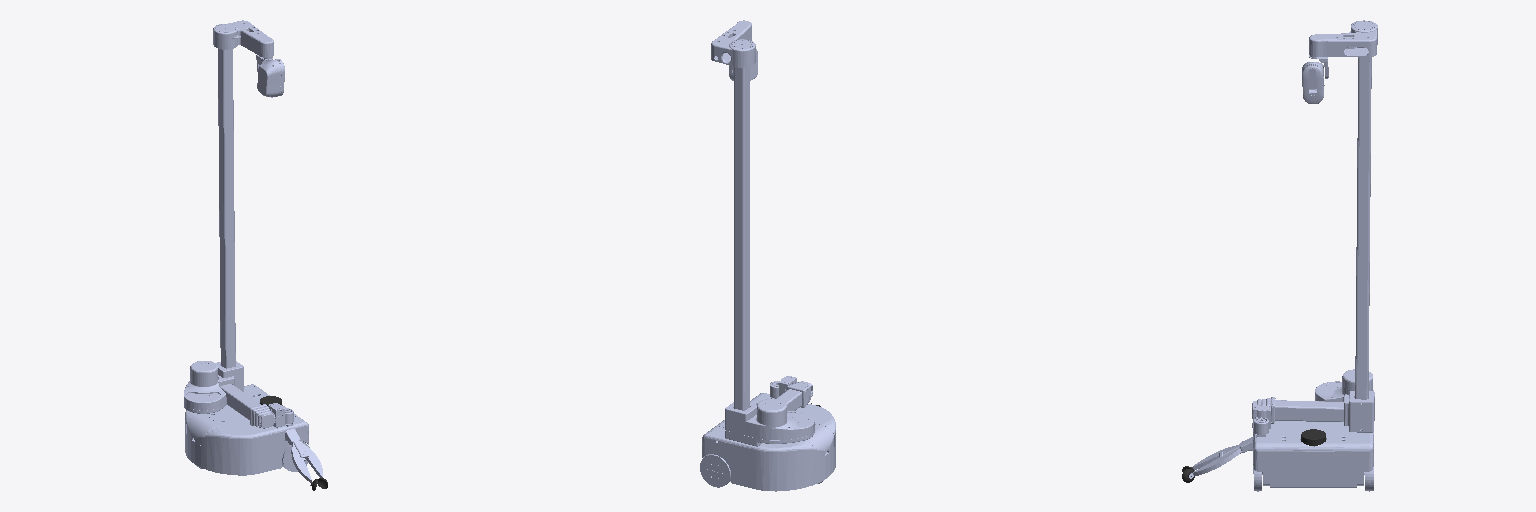
--- Render facts (derived) ---
The picture shows the robot from 3 angles, left to right: view 1: azimuth 30°, elevation 25°; view 2: azimuth 150°, elevation 25°; view 3: azimuth 270°, elevation 25°; orthographic projection.
Robot: stretch_description — 37 links, 36 joints (5 revolute, 2 continuous, 5 prismatic, 24 fixed); root link base_link; default pose: every joint at zero.
Visible links, largest first — view 1: base_link, link_mast, link_lift, link_head, link_head_tilt, link_arm_l4, link_arm_l0; view 2: base_link, link_mast, link_lift, link_head, link_left_wheel; view 3: base_link, link_mast, link_lift, link_head, link_arm_l4, link_head_tilt.
Boxes of the visible links, box(x1,y1,x2,y2) form: base_link: box(185, 384, 308, 475); link_mast: box(218, 49, 235, 368); link_lift: box(184, 361, 243, 413); link_head: box(213, 20, 273, 57); link_head_tilt: box(257, 59, 284, 97); link_arm_l4: box(220, 384, 266, 425); link_arm_l0: box(260, 403, 293, 428); base_link: box(702, 393, 835, 491); link_mast: box(734, 67, 749, 410); link_lift: box(725, 399, 814, 446); link_head: box(711, 20, 755, 67); link_left_wheel: box(700, 454, 730, 487); base_link: box(1253, 421, 1373, 487); link_mast: box(1355, 57, 1371, 399); link_lift: box(1315, 369, 1374, 432); link_head: box(1309, 20, 1377, 56); link_arm_l4: box(1271, 397, 1343, 423); link_head_tilt: box(1302, 62, 1324, 103).
Size in the robot's own frame: 0.3271 by 0.5555 by 1.42 metres.
25 mesh visuals loaded from 27 distinct referenced files (25 Collada DAE); not drawn: 2 (reference not matched to a file when rendering).

The robot description file, URDF, robot "stretch_description":
<?xml version="1.0" ?>
<robot name="stretch_description" version="1.0">
  <link name="link_gripper">
    <inertial>
      <origin rpy="0.0 0.0 0.0" xyz="-0.017022913273 0.0131410320934 -0.0371614759485"/>
      <mass value="0.101902711393"/>
      <inertia ixx="2.79241618018e-05" ixy="-1.1081924745e-05" ixz="-1.50343284037e-05" iyy="3.67945130513e-05" iyz="-4.33280448536e-06" izz="4.14524691955e-05"/>
    </inertial>
    <visual>
      <origin rpy="0.0 0.0 0.0" xyz="0.0 0.0 0.0"/>
      <geometry>
        <mesh filename="meshes/link_gripper.dae"/>
      </geometry>
      <material name="">
        <color rgba="0.792156862745 0.819607843137 0.933333333333 1.0"/>
      </material>
    </visual>
    <collision>
      <origin rpy="0.0 0.0 0.0" xyz="0.0 0.0 0.0"/>
      <geometry>
        <mesh filename="meshes/link_gripper.dae"/>
      </geometry>
    </collision>
  </link>
  <joint name="joint_gripper" type="fixed">
    <origin rpy="3.14159 0.0 -1.5708" xyz="0.0 0.0 0.0"/>
    <axis xyz="0.0 0.0 0.0"/>
    <parent link="link_wrist_yaw"/>
    <child link="link_gripper"/>
  </joint>
  <link name="link_gripper_finger_left">
    <inertial>
      <origin rpy="0.0 0.0 0.0" xyz="0.094504748351 0.0124301080924 -4.4408920985e-16"/>
      <mass value="0.0476207785199"/>
      <inertia ixx="0.0" ixy="0.0" ixz="0.0" iyy="0.0" iyz="0.0" izz="0.0"/>
    </inertial>
    <visual>
      <origin rpy="0.0 0.0 0.0" xyz="0.0 0.0 0.0"/>
      <geometry>
        <mesh filename="meshes/link_gripper_finger_left.dae" scale="0.9 1.0 1.0"/>
      </geometry>
      <material name="">
        <color rgba="0.792156862745 0.819607843137 0.933333333333 1.0"/>
      </material>
    </visual>
    <collision>
      <origin rpy="0.0 0.0 0.0" xyz="0.0 0.0 0.0"/>
      <geometry>
        <mesh filename="meshes/link_gripper_finger_left.dae" scale="0.9 1.0 1.0"/>
      </geometry>
    </collision>
  </link>
  <joint name="joint_gripper_finger_left" type="revolute">
    <origin rpy="2.1762e-15 0.5236 3.1416" xyz="-0.047231 -0.010151 -0.04679"/>
    <axis xyz="0.0 0.0 1.0"/>
    <parent link="link_gripper"/>
    <child link="link_gripper_finger_left"/>
    <limit effort="100.0" lower="-0.6" upper="0.6" velocity="1.0"/>
  </joint>
  <link name="link_gripper_fingertip_left">
    <inertial>
      <origin rpy="0.0 0.0 0.0" xyz="-3.16381381649e-08 -2.91408530639e-09 0.00812579670382"/>
      <mass value="0.00382159917456"/>
      <inertia ixx="0.0" ixy="0.0" ixz="0.0" iyy="0.0" iyz="0.0" izz="0.0"/>
    </inertial>
    <visual>
      <origin rpy="0.0 0.0 0.0" xyz="0.0 0.0 0.0"/>
      <geometry>
        <mesh filename="meshes/link_gripper_fingertip_left.dae"/>
      </geometry>
      <material name="">
        <color rgba="0.250980392157 0.250980392157 0.250980392157 1.0"/>
      </material>
    </visual>
    <collision>
      <origin rpy="0.0 0.0 0.0" xyz="0.0 0.0 0.0"/>
      <geometry>
        <mesh filename="meshes/link_gripper_fingertip_left.dae"/>
      </geometry>
    </collision>
  </link>
  <joint name="joint_gripper_fingertip_left" type="fixed">
    <origin rpy="-1.5708 -4.774e-15 -2.5545" xyz="0.171099 0.014912 0.0"/>
    <axis xyz="0.0 0.0 0.0"/>
    <parent link="link_gripper_finger_left"/>
    <child link="link_gripper_fingertip_left"/>
  </joint>
  <link name="link_gripper_finger_right">
    <inertial>
      <origin rpy="0.0 0.0 0.0" xyz="-0.094504748351 -0.0124301080924 0.0"/>
      <mass value="0.0476207785199"/>
      <inertia ixx="0.0" ixy="0.0" ixz="0.0" iyy="0.0" iyz="0.0" izz="0.0"/>
    </inertial>
    <visual>
      <origin rpy="0.0 0.0 0.0" xyz="0.0 0.0 0.0"/>
      <geometry>
        <mesh filename="meshes/link_gripper_finger_right.dae" scale="0.9 1.0 1.0"/>
      </geometry>
      <material name="">
        <color rgba="0.792156862745 0.819607843137 0.933333333333 1.0"/>
      </material>
    </visual>
    <collision>
      <origin rpy="0.0 0.0 0.0" xyz="0.0 0.0 0.0"/>
      <geometry>
        <mesh filename="meshes/link_gripper_finger_right.dae" scale="0.9 1.0 1.0"/>
      </geometry>
    </collision>
  </link>
  <joint name="joint_gripper_finger_right" type="revolute">
    <origin rpy="3.1416 -0.5236 1.2943e-15" xyz="-0.047231 0.010049 -0.04679"/>
    <axis xyz="0.0 0.0 1.0"/>
    <parent link="link_gripper"/>
    <child link="link_gripper_finger_right"/>
    <limit effort="100.0" lower="-0.6" upper="0.6" velocity="1.0"/>
  </joint>
  <link name="link_gripper_fingertip_right">
    <inertial>
      <origin rpy="0.0 0.0 0.0" xyz="2.59386303963e-08 6.70949018566e-09 0.0081257951613"/>
      <mass value="0.0038216003732"/>
      <inertia ixx="0.0" ixy="0.0" ixz="0.0" iyy="0.0" iyz="0.0" izz="0.0"/>
    </inertial>
    <visual>
      <origin rpy="0.0 0.0 0.0" xyz="0.0 0.0 0.0"/>
      <geometry>
        <mesh filename="meshes/link_gripper_fingertip_right.dae"/>
      </geometry>
      <material name="">
        <color rgba="0.250980392157 0.250980392157 0.250980392157 1.0"/>
      </material>
    </visual>
    <collision>
      <origin rpy="0.0 0.0 0.0" xyz="0.0 0.0 0.0"/>
      <geometry>
        <mesh filename="meshes/link_gripper_fingertip_right.dae"/>
      </geometry>
    </collision>
  </link>
  <joint name="joint_gripper_fingertip_right" type="fixed">
    <origin rpy="-1.5708 -2.0539e-15 0.58705" xyz="-0.171099 -0.014912 0.0"/>
    <axis xyz="0.0 0.0 0.0"/>
    <parent link="link_gripper_finger_right"/>
    <child link="link_gripper_fingertip_right"/>
  </joint>
  <link name="link_grasp_center"/>
  <joint name="joint_grasp_center" type="fixed">
    <origin rpy="0.0 0.0 3.141579" xyz="-0.205478 0.0 -0.138154"/>
    <parent link="link_gripper"/>
    <child link="link_grasp_center"/>
  </joint>
  <link name="base_link">
    <inertial>
      <origin rpy="0.0 0.0 0.0" xyz="-0.109461304328 -0.000741018909048 0.091491526943"/>
      <mass value="1.07237826598"/>
      <inertia ixx="0.0031058090771" ixy="1.51828481911e-06" ixz="0.000416904667324" iyy="0.00433798719992" iyz="1.33487716258e-05" izz="0.00372047274674"/>
    </inertial>
    <visual>
      <origin rpy="0.0 0.0 0.0" xyz="0.0 0.0 0.0"/>
      <geometry>
        <mesh filename="meshes/base_link.dae"/>
      </geometry>
      <material name="">
        <color rgba="0.792156862745 0.819607843137 0.933333333333 1.0"/>
      </material>
    </visual>
    <collision>
      <origin rpy="0.0 0.0 0.0" xyz="0.0 0.0 0.0"/>
      <geometry>
        <mesh filename="meshes/base_link.dae"/>
      </geometry>
    </collision>
  </link>
  <link name="link_right_wheel">
    <inertial>
      <origin rpy="0.0 0.0 0.0" xyz="1.25554620867e-07 3.54748938447e-07 0.0239581106165"/>
      <mass value="0.00356714564938"/>
      <inertia ixx="0.0" ixy="0.0" ixz="0.0" iyy="0.0" iyz="0.0" izz="0.0"/>
    </inertial>
    <visual>
      <origin rpy="0.0 0.0 0.0" xyz="0.0 0.0 0.0"/>
      <geometry>
        <mesh filename="meshes/link_right_wheel.dae"/>
      </geometry>
      <material name="">
        <color rgba="0.792156862745 0.819607843137 0.933333333333 1.0"/>
      </material>
    </visual>
    <collision>
      <origin rpy="0.0 0.0 0.0" xyz="0.0 0.0 0.0"/>
      <geometry>
        <mesh filename="meshes/link_right_wheel.dae"/>
      </geometry>
    </collision>
  </link>
  <joint name="joint_right_wheel" type="continuous">
    <origin rpy="-1.57079632679 -1.11022302463e-16 7.2858385991e-17" xyz="-0.003 -0.15765 0.0508"/>
    <axis xyz="0.0 0.0 1.0"/>
    <parent link="base_link"/>
    <child link="link_right_wheel"/>
  </joint>
  <link name="link_left_wheel">
    <inertial>
      <origin rpy="0.0 0.0 0.0" xyz="1.25554620922e-07 -3.54748938503e-07 -0.0239581106165"/>
      <mass value="0.00356714564938"/>
      <inertia ixx="0.0" ixy="0.0" ixz="0.0" iyy="0.0" iyz="0.0" izz="0.0"/>
    </inertial>
    <visual>
      <origin rpy="0.0 0.0 0.0" xyz="0.0 0.0 0.0"/>
      <geometry>
        <mesh filename="meshes/link_left_wheel.dae"/>
      </geometry>
      <material name="">
        <color rgba="0.792156862745 0.819607843137 0.933333333333 1.0"/>
      </material>
    </visual>
    <collision>
      <origin rpy="0.0 0.0 0.0" xyz="0.0 0.0 0.0"/>
      <geometry>
        <mesh filename="meshes/link_left_wheel.dae"/>
      </geometry>
    </collision>
  </link>
  <joint name="joint_left_wheel" type="continuous">
    <origin rpy="-1.57079632679 3.16227047921e-31 7.88745438254e-16" xyz="-0.00300000000002 0.15765 0.0508"/>
    <axis xyz="0.0 0.0 1.0"/>
    <parent link="base_link"/>
    <child link="link_left_wheel"/>
  </joint>
  <link name="link_mast">
    <inertial>
      <origin rpy="0.0 0.0 0.0" xyz="0.00755818572976 0.773971284177 0.0064731308662"/>
      <mass value="0.749143203376"/>
      <inertia ixx="0.0709854511955" ixy="-0.00433428742758" ixz="-0.000186110788698" iyy="0.000437922053343" iyz="-0.00288788257713" izz="0.0711048085017"/>
    </inertial>
    <visual>
      <origin rpy="0.0 0.0 0.0" xyz="0.0 0.0 0.0"/>
      <geometry>
        <mesh filename="meshes/link_mast.dae"/>
      </geometry>
      <material name="">
        <color rgba="0.792156862745 0.819607843137 0.933333333333 1.0"/>
      </material>
    </visual>
    <collision>
      <origin rpy="0.0 0.0 0.0" xyz="0.0 0.0 0.0"/>
      <geometry>
        <mesh filename="meshes/link_mast.dae"/>
      </geometry>
    </collision>
  </link>
  <joint name="joint_mast" type="fixed">
    <origin rpy="1.5624855157520778 -0.004672480556753289 -0.006463004369552573" xyz="-0.07277058991446328 0.1352903538167361 0.031977409320794355"/>
    <axis xyz="0.0 0.0 0.0"/>
    <parent link="base_link"/>
    <child link="link_mast"/>
  </joint>
  <link name="link_lift">
    <inertial>
      <origin rpy="0.0 0.0 0.0" xyz="-0.0547636346253 0.0380939689802 0.00933159404448"/>
      <mass value="0.444820831236"/>
      <inertia ixx="0.000567192946271" ixy="-0.000246075347895" ixz="-0.000128108442261" iyy="0.00127108364479" iyz="7.6191685507e-06" izz="0.00137296635099"/>
    </inertial>
    <visual>
      <origin rpy="0.0 0.0 0.0" xyz="0.0 0.0 0.0"/>
      <geometry>
        <mesh filename="meshes/link_lift.dae"/>
      </geometry>
      <material name="">
        <color rgba="0.792156862745 0.819607843137 0.933333333333 1.0"/>
      </material>
    </visual>
    <collision>
      <origin rpy="0.0 0.0 0.0" xyz="0.0 0.0 0.0"/>
      <geometry>
        <mesh filename="meshes/link_lift.dae"/>
      </geometry>
    </collision>
  </link>
  <joint name="joint_lift" type="prismatic">
    <origin rpy="-1.5707963268 1.56154313753 -6.29420043665e-13" xyz="-0.0369217062323 0.1654712 -0.000341653286794"/>
    <axis xyz="0.0 1.0 0.0"/>
    <parent link="link_mast"/>
    <child link="link_lift"/>
    <limit effort="100.0" lower="0.0" upper="1.1" velocity="1.0"/>
  </joint>
  <link name="link_arm_l4">
    <inertial>
      <origin rpy="0.0 0.0 0.0" xyz="-1.61247276464e-06 1.54715589201e-06 -0.095325270604"/>
      <mass value="0.067652545579"/>
      <inertia ixx="0.000122002023067" ixy="7.2959335623e-13" ixz="9.63170353371e-09" iyy="0.000122002023127" iyz="-9.24154949889e-09" izz="1.4604343981e-12"/>
    </inertial>
    <visual>
      <origin rpy="0.0 0.0 0.0" xyz="0.0 0.0 0.0"/>
      <geometry>
        <mesh filename="meshes/link_arm_l4.dae"/>
      </geometry>
      <material name="">
        <color rgba="0.792156862745 0.819607843137 0.933333333333 1.0"/>
      </material>
    </visual>
    <collision>
      <origin rpy="0.0 0.0 0.0" xyz="0.0 0.0 0.0"/>
      <geometry>
        <mesh filename="meshes/link_arm_l4.dae"/>
      </geometry>
    </collision>
  </link>
  <joint name="joint_arm_l4" type="fixed">
    <origin rpy="1.554658509218388 0.004597868167079522 -1.5648093090767023" xyz="-0.2590365485890325 -0.004056457899196247 -0.00045922665220278703"/>
    <axis xyz="0.0 0.0 0.0"/>
    <parent link="link_lift"/>
    <child link="link_arm_l4"/>
  </joint>
  <link name="link_arm_l3">
    <inertial>
      <origin rpy="0.0 0.0 0.0" xyz="-3.34873468621e-07 4.74113363069e-07 -0.0974069598289"/>
      <mass value="0.0626921047058"/>
      <inertia ixx="0.000115246639451" ixy="4.42139679831e-14" ixz="1.8971127991e-09" iyy="0.00011524663942" iyz="-2.68592949588e-09" izz="9.38270676408e-14"/>
    </inertial>
    <visual>
      <origin rpy="0.0 0.0 0.0" xyz="0.0 0.0 0.0"/>
      <geometry>
        <mesh filename="meshes/link_arm_l3.dae"/>
      </geometry>
      <material name="">
        <color rgba="0.792156862745 0.819607843137 0.933333333333 1.0"/>
      </material>
    </visual>
    <collision>
      <origin rpy="0.0 0.0 0.0" xyz="0.0 0.0 0.0"/>
      <geometry>
        <mesh filename="meshes/link_arm_l3.dae"/>
      </geometry>
    </collision>
  </link>
  <joint name="joint_arm_l3" type="prismatic">
    <origin rpy="3.5742e-16 3.2123e-16 -2.4565e-16" xyz="0.0 0.0 0.013"/>
    <axis xyz="0.0 0.0 1.0"/>
    <parent link="link_arm_l4"/>
    <child link="link_arm_l3"/>
    <limit effort="100.0" lower="0.0" upper="0.13" velocity="1.0"/>
  </joint>
  <link name="link_arm_l2">
    <inertial>
      <origin rpy="0.0 0.0 0.0" xyz="-3.31043560509e-07 3.13422303999e-07 -0.0972558835419"/>
      <mass value="0.0569074368576"/>
      <inertia ixx="0.000105206697152" ixy="2.59896259031e-14" ixz="1.69941454518e-09" iyy="0.000105206697155" iyz="-1.60895568924e-09" izz="5.20570301686e-14"/>
    </inertial>
    <visual>
      <origin rpy="0.0 0.0 0.0" xyz="0.0 0.0 0.0"/>
      <geometry>
        <mesh filename="meshes/link_arm_l2.dae"/>
      </geometry>
      <material name="">
        <color rgba="0.792156862745 0.819607843137 0.933333333333 1.0"/>
      </material>
    </visual>
    <collision>
      <origin rpy="0.0 0.0 0.0" xyz="0.0 0.0 0.0"/>
      <geometry>
        <mesh filename="meshes/link_arm_l2.dae"/>
      </geometry>
    </collision>
  </link>
  <joint name="joint_arm_l2" type="prismatic">
    <origin rpy="2.91385731014e-16 4.44300759505e-17 3.25691080516e-16" xyz="0.0 0.0 0.013"/>
    <axis xyz="0.0 0.0 1.0"/>
    <parent link="link_arm_l3"/>
    <child link="link_arm_l2"/>
    <limit effort="100.0" lower="0.0" upper="0.13" velocity="1.0"/>
  </joint>
  <link name="link_arm_l1">
    <inertial>
      <origin rpy="0.0 0.0 0.0" xyz="-3.36876635421e-07 3.05876091067e-07 -0.0969117032233"/>
      <mass value="0.0511763619538"/>
      <inertia ixx="9.58490021275e-05" ixy="2.27446667584e-14" ixz="1.54951672296e-09" iyy="9.58490021319e-05" iyz="-1.40692486873e-09" izz="4.57014633924e-14"/>
    </inertial>
    <visual>
      <origin rpy="0.0 0.0 0.0" xyz="0.0 0.0 0.0"/>
      <geometry>
        <mesh filename="meshes/link_arm_l1.dae"/>
      </geometry>
      <material name="">
        <color rgba="0.792156862745 0.819607843137 0.933333333333 1.0"/>
      </material>
    </visual>
    <collision>
      <origin rpy="0.0 0.0 0.0" xyz="0.0 0.0 0.0"/>
      <geometry>
        <mesh filename="meshes/link_arm_l1.dae"/>
      </geometry>
    </collision>
  </link>
  <joint name="joint_arm_l1" type="prismatic">
    <origin rpy="7.41596560408e-17 1.33876788297e-16 -2.44545873596e-16" xyz="0.0 0.0 0.013"/>
    <axis xyz="0.0 0.0 1.0"/>
    <parent link="link_arm_l2"/>
    <child link="link_arm_l1"/>
    <limit effort="100.0" lower="0.0" upper="0.13" velocity="1.0"/>
  </joint>
  <link name="link_arm_l0">
    <inertial>
      <origin rpy="0.0 0.0 0.0" xyz="0.0230715049668 -0.00195115833663 -0.036064634716"/>
      <mass value="0.101241250325"/>
      <inertia ixx="0.00022715699901" ixy="8.90680620109e-06" ixz="-7.91132210986e-05" iyy="0.000300732790537" iyz="7.21771824541e-06" izz="9.35784422622e-05"/>
    </inertial>
    <visual>
      <origin rpy="0.0 0.0 0.0" xyz="0.0 0.0 0.0"/>
      <geometry>
        <mesh filename="meshes/link_arm_l0.dae"/>
      </geometry>
      <material name="">
        <color rgba="0.792156862745 0.819607843137 0.933333333333 1.0"/>
      </material>
    </visual>
    <collision>
      <origin rpy="0.0 0.0 0.0" xyz="0.0 0.0 0.0"/>
      <geometry>
        <mesh filename="meshes/link_arm_l0.dae"/>
      </geometry>
    </collision>
  </link>
  <joint name="joint_arm_l0" type="prismatic">
    <origin rpy="-3.05317390622e-16 -4.23236224077e-16 -2.68425135229e-17" xyz="0.0 0.0 -0.01375"/>
    <axis xyz="0.0 0.0 1.0"/>
    <parent link="link_arm_l1"/>
    <child link="link_arm_l0"/>
    <limit effort="100.0" lower="0.0" upper="0.13" velocity="1.0"/>
  </joint>
  <link name="link_wrist_yaw">
    <inertial>
      <origin rpy="0.0 0.0 0.0" xyz="-8.02795716751e-06 1.93811447768e-05 0.0189467005959"/>
      <mass value="0.0405398981326"/>
      <inertia ixx="2.20062857967e-09" ixy="1.15494401227e-13" ixz="1.02598056874e-11" iyy="2.20039759185e-09" iyz="-2.47692875363e-11" izz="3.26666802417e-13"/>
    </inertial>
    <visual>
      <origin rpy="0.0 0.0 0.0" xyz="0.0 0.0 0.0"/>
      <geometry>
        <mesh filename="meshes/link_wrist_yaw.dae"/>
      </geometry>
      <material name="">
        <color rgba="0.792156862745 0.819607843137 0.933333333333 1.0"/>
      </material>
    </visual>
    <collision>
      <origin rpy="0.0 0.0 0.0" xyz="0.0 0.0 0.0"/>
      <geometry>
        <mesh filename="meshes/link_wrist_yaw.dae"/>
      </geometry>
    </collision>
  </link>
  <joint name="joint_wrist_yaw" type="revolute">
    <origin rpy="1.5708 4.2595e-14 2.6415e-15" xyz="0.083 -0.03075 0.0"/>
    <axis xyz="0.0 0.0 -1.0"/>
    <parent link="link_arm_l0"/>
    <child link="link_wrist_yaw"/>
    <limit effort="100.0" lower="-1.75" upper="4.0" velocity="1.0"/>
  </joint>
  <link name="link_head">
    <inertial>
      <origin rpy="0.0 0.0 0.0" xyz="0.0372933550589 0.0455094329856 0.0281136801213"/>
      <mass value="0.129454717596"/>
      <inertia ixx="2.93405962311e-05" ixy="-7.89638931854e-07" ixz="-4.74678128516e-06" iyy="2.68283736177e-05" iyz="1.80251508622e-06" izz="1.46172914237e-05"/>
    </inertial>
    <visual>
      <origin rpy="0.0 0.0 0.0" xyz="0.0 0.0 0.0"/>
      <geometry>
        <mesh filename="meshes/link_head.dae"/>
      </geometry>
      <material name="">
        <color rgba="0.792156862745 0.819607843137 0.933333333333 1.0"/>
      </material>
    </visual>
    <collision>
      <origin rpy="0.0 0.0 0.0" xyz="0.0 0.0 0.0"/>
      <geometry>
        <mesh filename="meshes/link_head.dae"/>
      </geometry>
    </collision>
  </link>
  <joint name="joint_head" type="fixed">
    <origin rpy="1.5708 -1.5615 3.1416" xyz="0.0 1.33 0.0"/>
    <axis xyz="0.0 0.0 0.0"/>
    <parent link="link_mast"/>
    <child link="link_head"/>
  </joint>
  <link name="link_head_pan">
    <inertial>
      <origin rpy="0.0 0.0 0.0" xyz="-0.00116200255311 0.0130365621706 0.00137629842299"/>
      <mass value="0.0358583411826"/>
      <inertia ixx="2.7584793756e-05" ixy="5.25762707914e-07" ixz="-9.28796751053e-07" iyy="2.08815921107e-05" iyz="1.17265055332e-05" izz="6.78612505436e-06"/>
    </inertial>
    <visual>
      <origin rpy="0.0 0.0 0.0" xyz="0.0 0.0 0.0"/>
      <geometry>
        <mesh filename="meshes/link_head_pan.dae"/>
      </geometry>
      <material name="">
        <color rgba="0.792156862745 0.819607843137 0.933333333333 1.0"/>
      </material>
    </visual>
    <collision>
      <origin rpy="0.0 0.0 0.0" xyz="0.0 0.0 0.0"/>
      <geometry>
        <mesh filename="meshes/link_head_pan.dae"/>
      </geometry>
    </collision>
  </link>
  <joint name="joint_head_pan" type="revolute">
    <origin rpy="0.02155819125253408 -0.0030940478584484676 1.5834230398189724" xyz="0.14217272451752058 0.07336558248656157 -0.0069090201795857075"/>
    <axis xyz="0.0 0.0 1.0"/>
    <parent link="link_head"/>
    <child link="link_head_pan"/>
    <limit effort="100.0" lower="-3.9" upper="1.5" velocity="1.0"/>
  </joint>
  <link name="link_head_tilt">
    <inertial>
      <origin rpy="0.0 0.0 0.0" xyz="0.00920211049012 -0.0279724762416 0.0306580436227"/>
      <mass value="0.0701242408063"/>
      <inertia ixx="1.73265934767e-05" ixy="2.38363792824e-07" ixz="7.96430204321e-08" iyy="4.11044416077e-05" iyz="-9.41955638216e-07" izz="2.38851808141e-05"/>
    </inertial>
    <visual>
      <origin rpy="0.0 0.0 0.0" xyz="0.0 0.0 0.0"/>
      <geometry>
        <mesh filename="meshes/link_head_tilt.dae"/>
      </geometry>
      <material name="">
        <color rgba="0.792156862745 0.819607843137 0.933333333333 1.0"/>
      </material>
    </visual>
    <collision>
      <origin rpy="0.0 0.0 0.0" xyz="0.0 0.0 0.0"/>
      <geometry>
        <mesh filename="meshes/link_head_tilt.dae"/>
      </geometry>
    </collision>
  </link>
  <joint name="joint_head_tilt" type="revolute">
    <origin rpy="1.5861733334850323 0.05818418394132463 -0.020563492826744544" xyz="0.0011644674962199503 0.02534889779661554 -0.04761200234569267"/>
    <axis xyz="0.0 0.0 1.0"/>
    <parent link="link_head_pan"/>
    <child link="link_head_tilt"/>
    <limit effort="100.0" lower="-1.53" upper="0.79" velocity="1.0"/>
  </joint>
  <link name="link_aruco_right_base">
    <inertial>
      <origin rpy="0.0 0.0 0.0" xyz="0.0 0.0 -5.00000000014e-07"/>
      <mass value="3.5999999999e-06"/>
      <inertia ixx="0.0" ixy="0.0" ixz="0.0" iyy="0.0" iyz="0.0" izz="0.0"/>
    </inertial>
    <visual>
      <origin rpy="0.0 0.0 0.0" xyz="0.0 0.0 0.0"/>
      <geometry>
        <mesh filename="meshes/link_aruco_right_base.dae"/>
      </geometry>
      <material name="">
        <color rgba="0.792156862745 0.819607843137 0.933333333333 1.0"/>
      </material>
    </visual>
    <collision>
      <origin rpy="0.0 0.0 0.0" xyz="0.0 0.0 0.0"/>
      <geometry>
        <mesh filename="meshes/link_aruco_right_base.dae"/>
      </geometry>
    </collision>
  </link>
  <joint name="joint_aruco_right_base" type="fixed">
    <origin rpy="0.0 0.0 -1.57079632679" xyz="-0.005 -0.1304972 0.1597482"/>
    <axis xyz="0.0 0.0 0.0"/>
    <parent link="base_link"/>
    <child link="link_aruco_right_base"/>
  </joint>
  <link name="link_aruco_left_base">
    <inertial>
      <origin rpy="0.0 0.0 0.0" xyz="0.0 0.0 -5.00000000014e-07"/>
      <mass value="3.5999999999e-06"/>
      <inertia ixx="0.0" ixy="0.0" ixz="0.0" iyy="0.0" iyz="0.0" izz="0.0"/>
    </inertial>
    <visual>
      <origin rpy="0.0 0.0 0.0" xyz="0.0 0.0 0.0"/>
      <geometry>
        <mesh filename="meshes/link_aruco_left_base.dae"/>
      </geometry>
      <material name="">
        <color rgba="0.792156862745 0.819607843137 0.933333333333 1.0"/>
      </material>
    </visual>
    <collision>
      <origin rpy="0.0 0.0 0.0" xyz="0.0 0.0 0.0"/>
      <geometry>
        <mesh filename="meshes/link_aruco_left_base.dae"/>
      </geometry>
    </collision>
  </link>
  <joint name="joint_aruco_left_base" type="fixed">
    <origin rpy="0.0 0.0 -1.57079632679" xyz="-0.005 0.1304972 0.1597482"/>
    <axis xyz="0.0 0.0 0.0"/>
    <parent link="base_link"/>
    <child link="link_aruco_left_base"/>
  </joint>
  <link name="link_aruco_shoulder">
    <inertial>
      <origin rpy="0.0 0.0 0.0" xyz="-2.77555756156e-17 2.56739074445e-16 -0.000125"/>
      <mass value="0.000399141592654"/>
      <inertia ixx="0.0" ixy="0.0" ixz="0.0" iyy="0.0" iyz="0.0" izz="0.0"/>
    </inertial>
    <visual>
      <origin rpy="0.0 0.0 0.0" xyz="0.0 0.0 0.0"/>
      <geometry>
        <mesh filename="meshes/link_aruco_shoulder.dae"/>
      </geometry>
      <material name="">
        <color rgba="0.792156862745 0.819607843137 0.933333333333 1.0"/>
      </material>
    </visual>
    <collision>
      <origin rpy="0.0 0.0 0.0" xyz="0.0 0.0 0.0"/>
      <geometry>
        <mesh filename="meshes/link_aruco_shoulder.dae"/>
      </geometry>
    </collision>
  </link>
  <joint name="joint_aruco_shoulder" type="fixed">
    <origin rpy="-1.53998860118e-29 3.55962409571e-15 0.0" xyz="-0.0133768876375 0.0558540528812 0.0861368272418"/>
    <axis xyz="0.0 0.0 0.0"/>
    <parent link="link_lift"/>
    <child link="link_aruco_shoulder"/>
  </joint>
  <link name="link_aruco_top_wrist">
    <inertial>
      <origin rpy="0.0 0.0 0.0" xyz="1.11022302463e-16 3.05311331772e-16 -0.000124999999998"/>
      <mass value="0.000225"/>
      <inertia ixx="0.0" ixy="0.0" ixz="0.0" iyy="0.0" iyz="0.0" izz="0.0"/>
    </inertial>
    <visual>
      <origin rpy="0.0 0.0 0.0" xyz="0.0 0.0 0.0"/>
      <geometry>
        <mesh filename="meshes/link_aruco_top_wrist.dae"/>
      </geometry>
      <material name="">
        <color rgba="0.792156862745 0.819607843137 0.933333333333 1.0"/>
      </material>
    </visual>
    <collision>
      <origin rpy="0.0 0.0 0.0" xyz="0.0 0.0 0.0"/>
      <geometry>
        <mesh filename="meshes/link_aruco_top_wrist.dae"/>
      </geometry>
    </collision>
  </link>
  <joint name="joint_aruco_top_wrist" type="fixed">
    <origin rpy="1.57079632679 -8.03728587323e-15 3.14159265359" xyz="0.04725 0.029285 0.0"/>
    <axis xyz="0.0 0.0 0.0"/>
    <parent link="link_arm_l0"/>
    <child link="link_aruco_top_wrist"/>
  </joint>
  <link name="link_aruco_inner_wrist">
    <inertial>
      <origin rpy="0.0 0.0 0.0" xyz="8.32667268469e-17 1.7763568394e-15 -0.000125"/>
      <mass value="0.000225"/>
      <inertia ixx="0.0" ixy="0.0" ixz="0.0" iyy="0.0" iyz="0.0" izz="0.0"/>
    </inertial>
    <visual>
      <origin rpy="0.0 0.0 0.0" xyz="0.0 0.0 0.0"/>
      <geometry>
        <mesh filename="meshes/link_aruco_inner_wrist.dae"/>
      </geometry>
      <material name="">
        <color rgba="0.792156862745 0.819607843137 0.933333333333 1.0"/>
      </material>
    </visual>
    <collision>
      <origin rpy="0.0 0.0 0.0" xyz="0.0 0.0 0.0"/>
      <geometry>
        <mesh filename="meshes/link_aruco_inner_wrist.dae"/>
      </geometry>
    </collision>
  </link>
  <joint name="joint_aruco_inner_wrist" type="fixed">
    <origin rpy="3.14159265359 4.23377442363e-14 3.14159265359" xyz="0.04725 -0.0119 -0.0272499999992"/>
    <axis xyz="0.0 0.0 0.0"/>
    <parent link="link_arm_l0"/>
    <child link="link_aruco_inner_wrist"/>
  </joint>
  <material name="aluminum">
    <color rgba="0.5 0.5 0.5 1.0"/>
  </material>
  <material name="plastic">
    <color rgba="0.1 0.1 0.1 1.0"/>
  </material>
  <joint name="camera_joint" type="fixed">
    <origin rpy="0.0026622503290244133 -0.009381848621681899 0.03646518611441104" xyz="0.02763878175682945 -0.014425842297925977 0.019378232088902814"/>
    <parent link="link_head_tilt"/>
    <child link="camera_bottom_screw_frame"/>
  </joint>
  <link name="camera_bottom_screw_frame"/>
  <joint name="camera_link_joint" type="fixed">
    <origin rpy="0.0 0.0 0.0" xyz="0.0106 0.0175 0.0125"/>
    <parent link="camera_bottom_screw_frame"/>
    <child link="camera_link"/>
  </joint>
  <link name="camera_link">
    <inertial>
      <origin rpy="0 0 0" xyz="0.0 0.0 0.0"/>
      <mass value="0.072"/>
      <inertia ixx="0.003881243" ixy="0.0" ixz="0.0" iyy="0.00049894" iyz="0.0" izz="0.003879257"/>
    </inertial>
    <visual>
      <origin rpy="1.57079632679 0.0 1.57079632679" xyz="0.0043 -0.0175 0.0"/>
      <geometry>
        <mesh filename="meshes/d435.dae"/>
      </geometry>
    </visual>
    <collision>
      <origin rpy="0.0 0.0 0.0" xyz="0.0 -0.0175 0.0"/>
      <geometry>
        <box size="0.02505 0.09 0.025"/>
      </geometry>
    </collision>
  </link>
  <joint name="camera_depth_joint" type="fixed">
    <origin rpy="0.0 0.0 0.0" xyz="0.0 0.0 0.0"/>
    <parent link="camera_link"/>
    <child link="camera_depth_frame"/>
  </joint>
  <link name="camera_depth_frame"/>
  <joint name="camera_depth_optical_joint" type="fixed">
    <origin rpy="-1.57079632679 0.0 -1.57079632679" xyz="0.0 0.0 0.0"/>
    <parent link="camera_depth_frame"/>
    <child link="camera_depth_optical_frame"/>
  </joint>
  <link name="camera_depth_optical_frame"/>
  <joint name="camera_infra1_joint" type="fixed">
    <origin rpy="0.0 0.0 0.0" xyz="0.0 0.0 0.0"/>
    <parent link="camera_link"/>
    <child link="camera_infra1_frame"/>
  </joint>
  <link name="camera_infra1_frame"/>
  <joint name="camera_infra1_optical_joint" type="fixed">
    <origin rpy="-1.57079632679 0.0 -1.57079632679" xyz="0.0 0.0 0.0"/>
    <parent link="camera_infra1_frame"/>
    <child link="camera_infra1_optical_frame"/>
  </joint>
  <link name="camera_infra1_optical_frame"/>
  <joint name="camera_infra2_joint" type="fixed">
    <origin rpy="0.0 0.0 0.0" xyz="0.0 -0.05 0.0"/>
    <parent link="camera_link"/>
    <child link="camera_infra2_frame"/>
  </joint>
  <link name="camera_infra2_frame"/>
  <joint name="camera_infra2_optical_joint" type="fixed">
    <origin rpy="-1.57079632679 0.0 -1.57079632679" xyz="0.0 0.0 0.0"/>
    <parent link="camera_infra2_frame"/>
    <child link="camera_infra2_optical_frame"/>
  </joint>
  <link name="camera_infra2_optical_frame"/>
  <joint name="camera_color_joint" type="fixed">
    <origin rpy="0.0 0.0 0.0" xyz="0.0 0.015 0.0"/>
    <parent link="camera_link"/>
    <child link="camera_color_frame"/>
  </joint>
  <link name="camera_color_frame"/>
  <joint name="camera_color_optical_joint" type="fixed">
    <origin rpy="-1.57079632679 0.0 -1.57079632679" xyz="0.0 0.0 0.0"/>
    <parent link="camera_color_frame"/>
    <child link="camera_color_optical_frame"/>
  </joint>
  <link name="camera_color_optical_frame"/>
  <link name="laser">
    <inertial>
      <origin rpy="0.0 0.0 0.0" xyz="0.0 0.0 -0.000755956127492"/>
      <mass value="0.0749979022894"/>
      <inertia ixx="0.0" ixy="0.0" ixz="0.0" iyy="0.0" iyz="0.0" izz="0.0"/>
    </inertial>
    <visual>
      <origin rpy="0.0 0.0 0.0" xyz="0.0 0.0 0.0"/>
      <geometry>
        <mesh filename="meshes/laser.dae"/>
      </geometry>
      <material name="">
        <color rgba="0.250980392157 0.250980392157 0.250980392157 1.0"/>
      </material>
    </visual>
    <collision>
      <origin rpy="0.0 0.0 0.0" xyz="0.0 0.0 0.0"/>
      <geometry>
        <mesh filename="meshes/laser.dae"/>
      </geometry>
    </collision>
  </link>
  <joint name="joint_laser" type="fixed">
    <origin rpy="0.0 0.0 -3.14159265359" xyz="0.000502800000001 0.0 0.1664"/>
    <axis xyz="0.0 0.0 0.0"/>
    <parent link="base_link"/>
    <child link="laser"/>
  </joint>
  <link name="respeaker_base">
    <inertial>
      <origin rpy="0.0 0.0 0.0" xyz="-0.000780828967927 0.00765742173486 -0.00424882983019"/>
      <mass value="0.00969129410417"/>
      <inertia ixx="8.95656300428e-07" ixy="2.6733074581e-08" ixz="-3.84519793581e-08" iyy="4.04210996171e-07" iyz="3.15533542839e-07" izz="7.08282597118e-07"/>
    </inertial>
    <visual>
      <origin rpy="0.0 0.0 0.0" xyz="0.0 0.0 0.0"/>
      <geometry>
        <mesh filename="meshes/link_respeaker.dae"/>
      </geometry>
      <material name="">
        <color rgba="0.792156862745 0.819607843137 0.933333333333 1.0"/>
      </material>
    </visual>
    <collision>
      <origin rpy="0.0 0.0 0.0" xyz="0.0 0.0 0.0"/>
      <geometry>
        <mesh filename="meshes/link_respeaker.dae"/>
      </geometry>
    </collision>
  </link>
  <joint name="joint_respeaker" type="fixed">
    <origin rpy="1.5707963268 0.0 3.14159265359" xyz="1.09074743138e-05 1.36992 0.00303572796911"/>
    <axis xyz="0.0 0.0 0.0"/>
    <parent link="link_mast"/>
    <child link="respeaker_base"/>
  </joint>
</robot>
